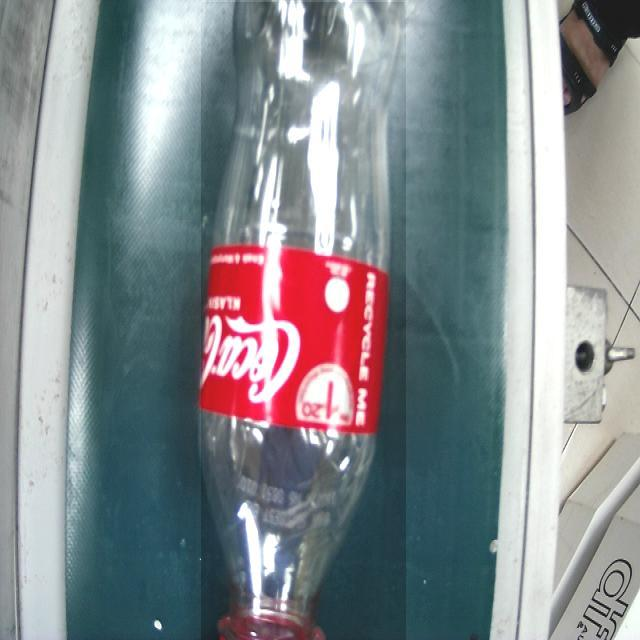Pet_Bottle: (201, 2, 406, 640)
